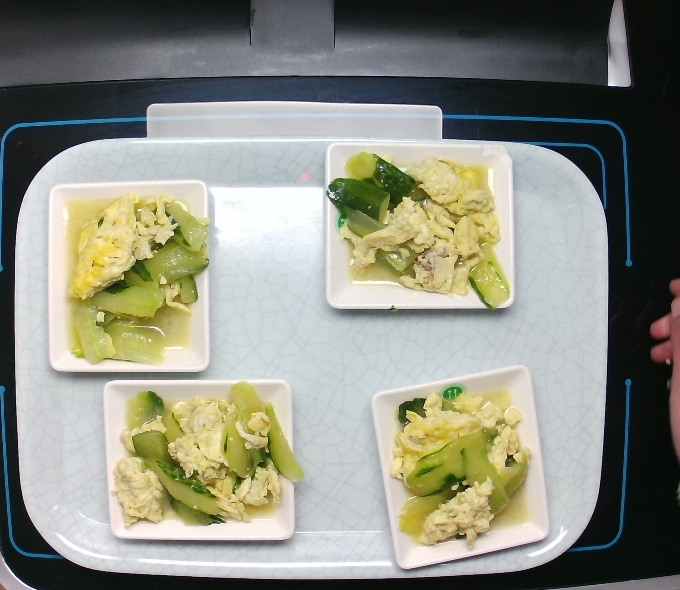wcq-DanHuangHuangGua: (329, 153, 516, 315), (104, 381, 300, 531), (62, 186, 211, 370), (385, 386, 533, 556)
